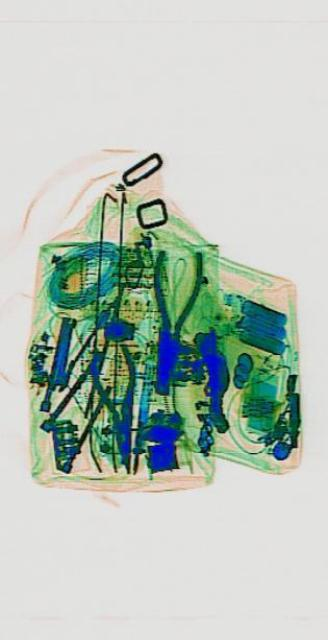Pliers: (138, 236, 202, 404), (86, 333, 147, 482)
